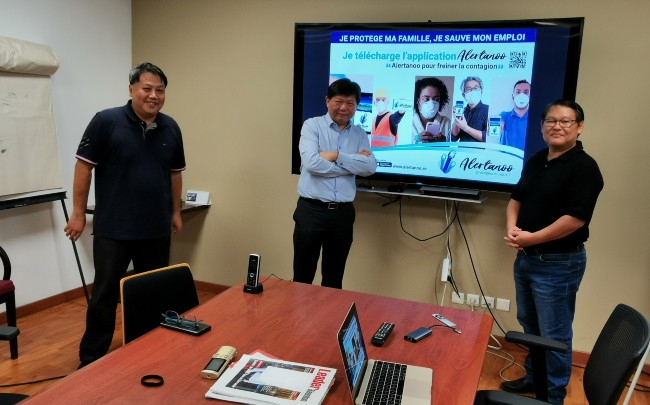with_mask: (415, 88, 445, 121), (460, 78, 483, 105), (513, 86, 530, 109)
without_mask: (539, 113, 583, 150), (132, 79, 168, 119), (325, 95, 361, 127)
